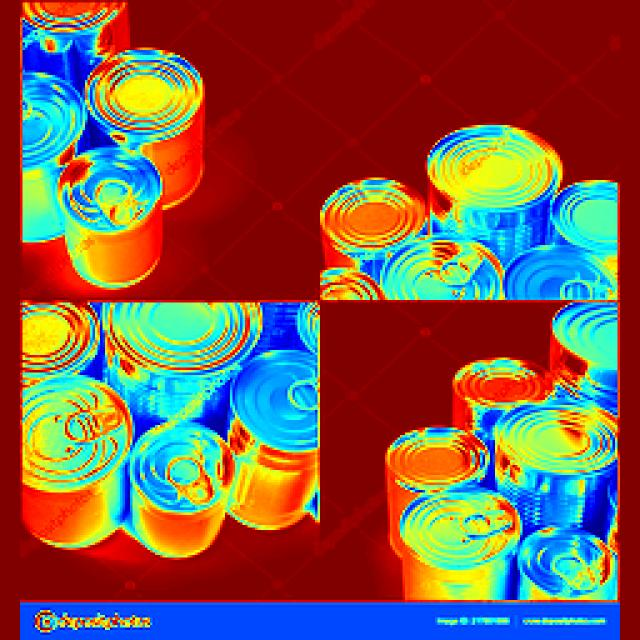Aluminium Food Cans: (84, 57, 238, 199), (488, 401, 616, 548), (227, 350, 324, 542), (27, 375, 135, 547), (423, 134, 573, 245), (56, 151, 182, 275), (393, 493, 518, 609), (134, 419, 236, 557), (508, 509, 621, 618), (320, 183, 433, 262), (385, 245, 500, 311)
